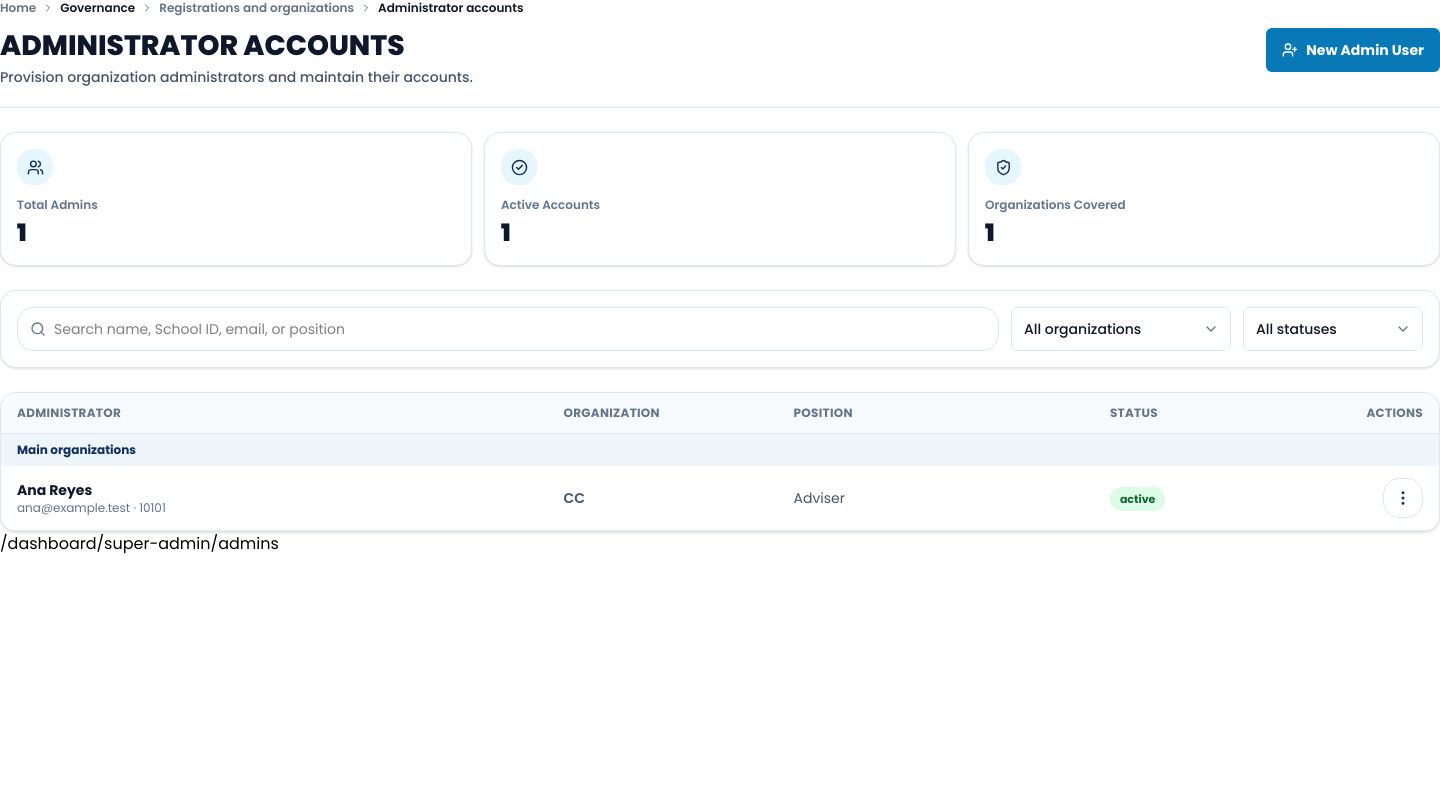
it: SystemAdminsPage › initiates a secure password reset after confirmation
Click the button named "Actions for Ana Reyes": (1403, 498) [1383, 478, 1423, 518]
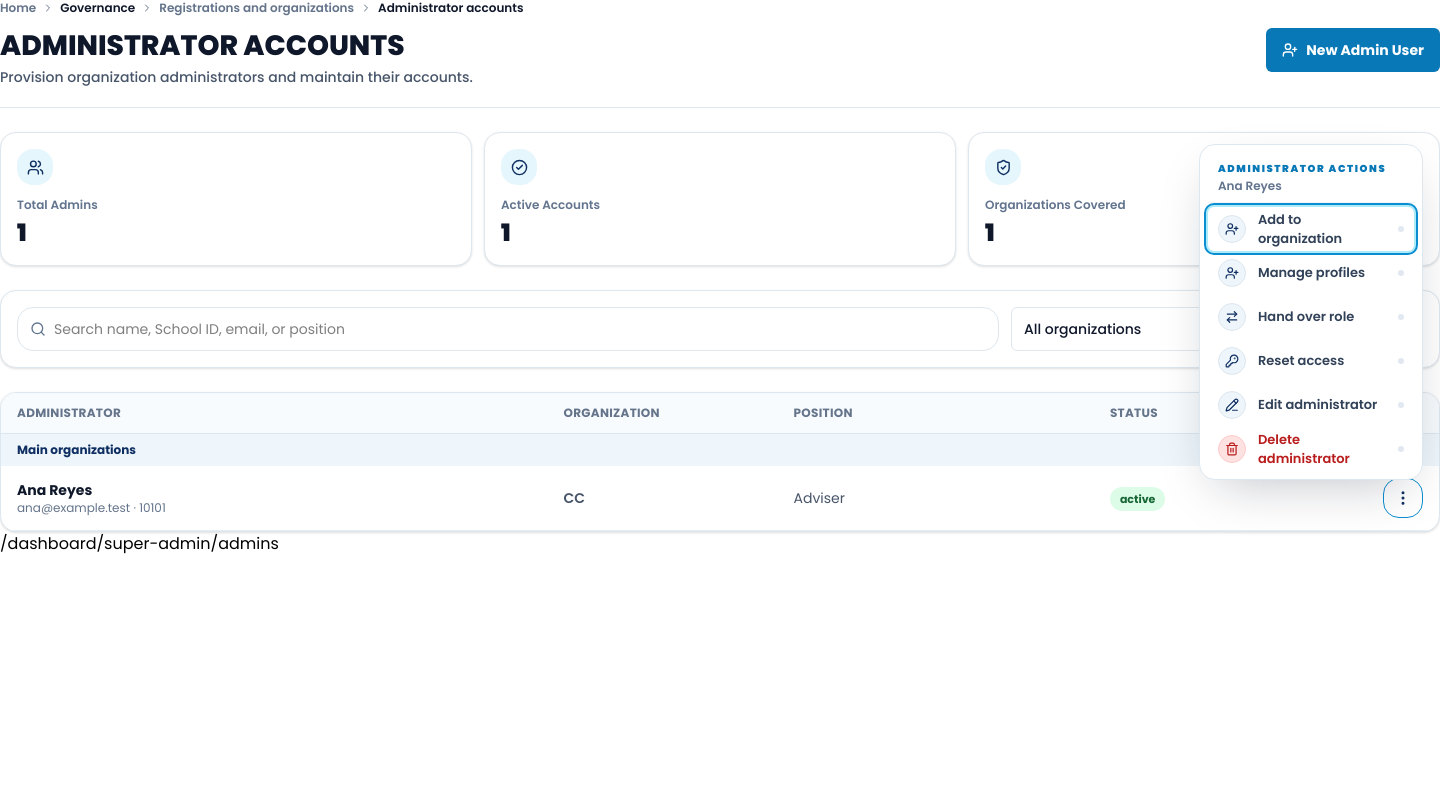
Click the menu item "Reset access": (1311, 361) [1208, 339, 1414, 383]
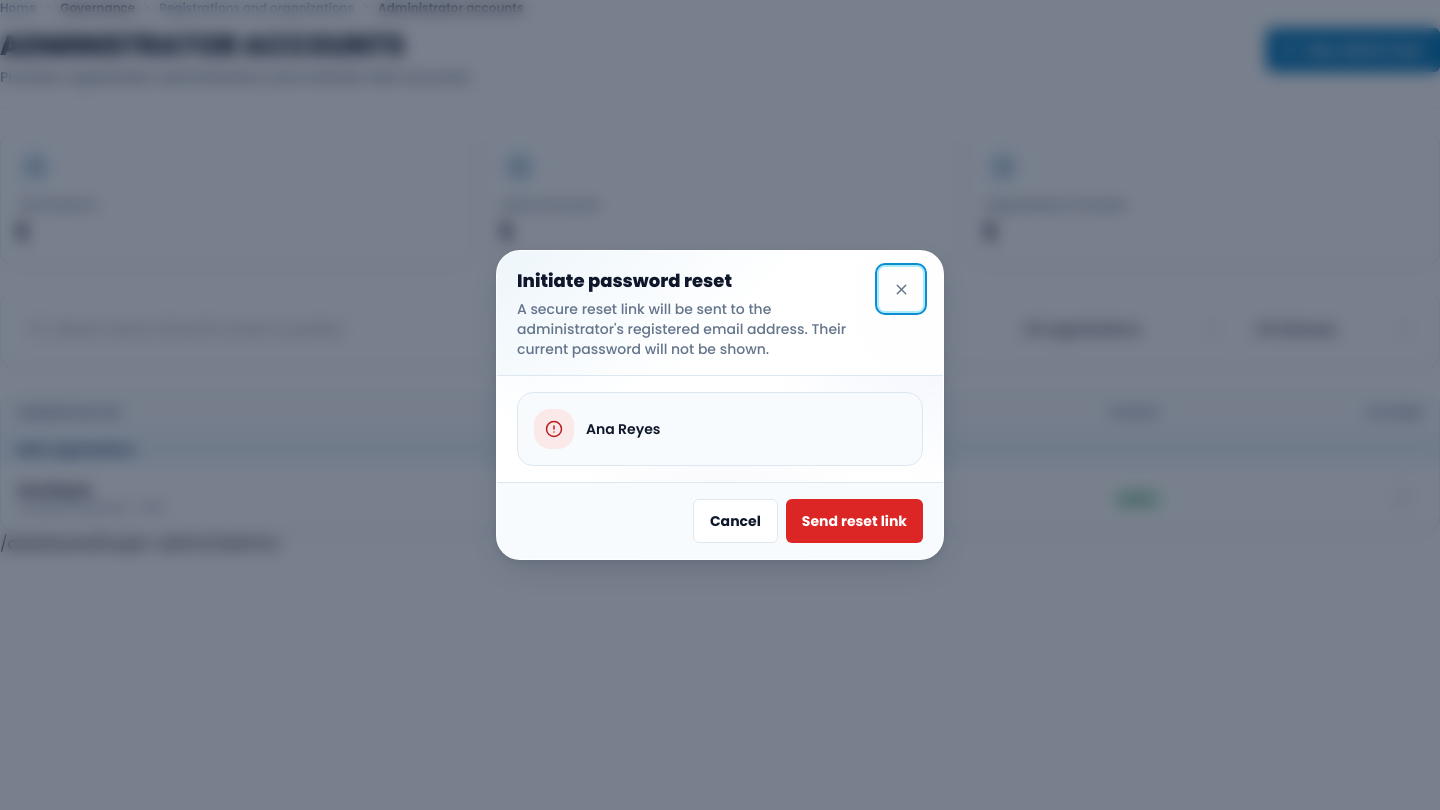
Click the button "Send reset link": (854, 521) [786, 499, 923, 543]
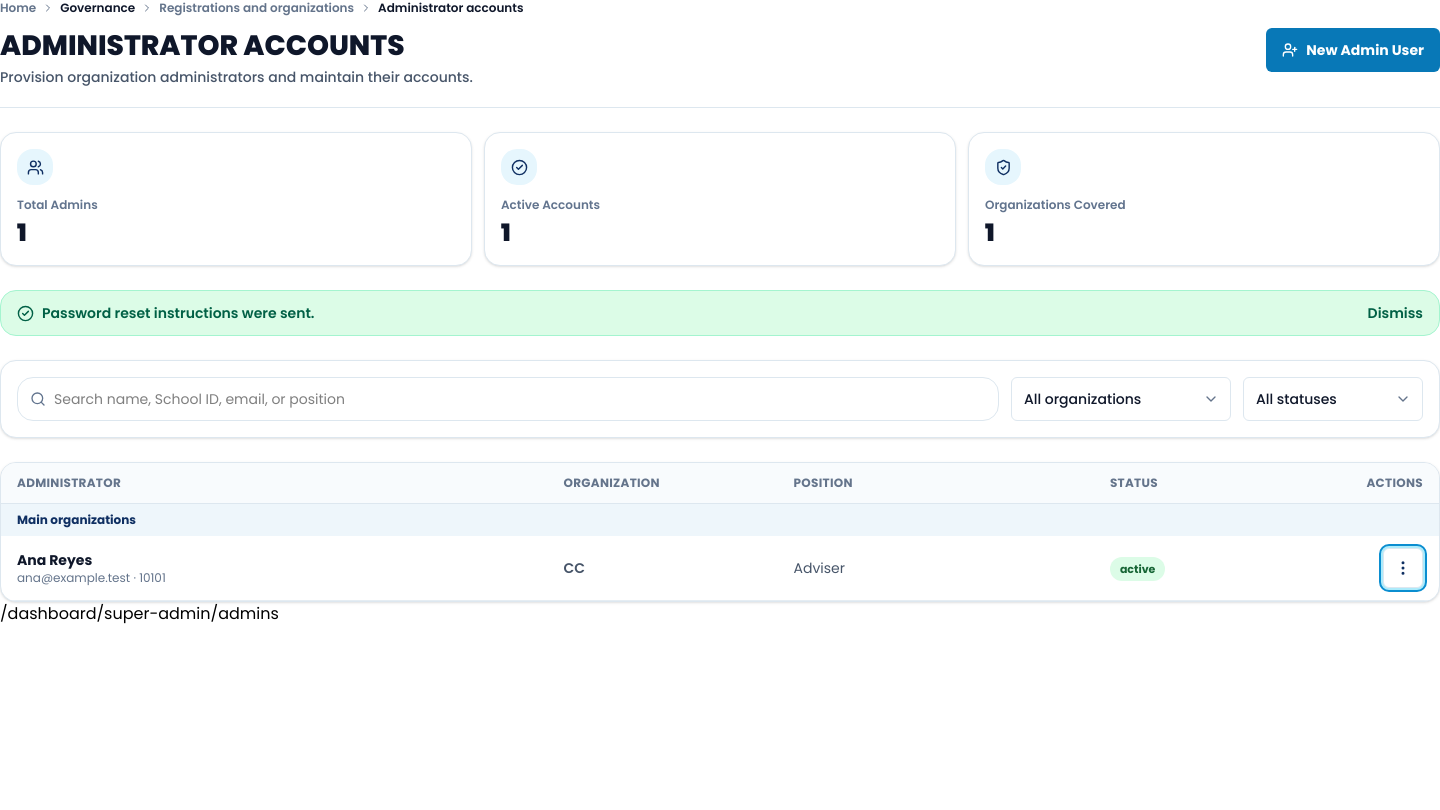
expect the text "Password reset instructions were sent." is shown: met, box [17, 303, 314, 323]
